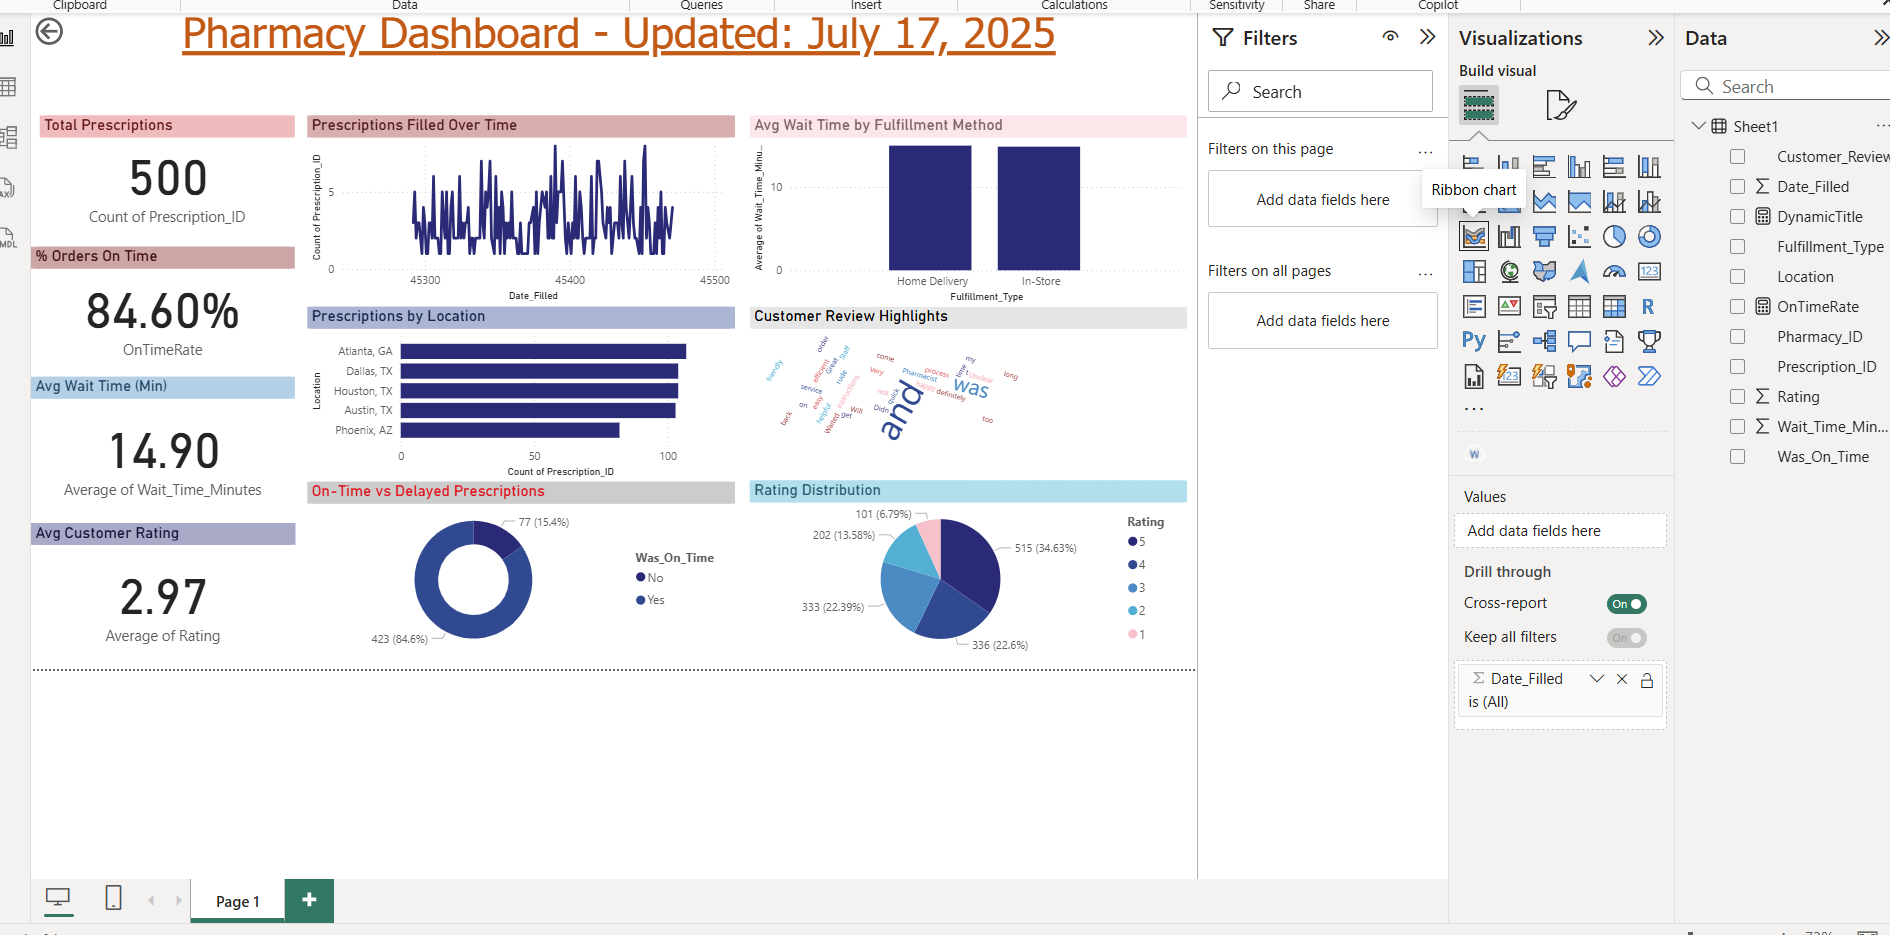

The dashboard page shown, as its layout file describes it:
{"tool":"powerbi","page":{"name":"Page 1","canvas":[1280,720],"ordinal":0},"visuals":[{"type":"card","title":"Total Prescriptions","fields":{"Values":["CountNonNull(Sheet1.Prescription_ID)"]},"box":[9.6,112.5,279.9,126.2],"z":0},{"type":"card","title":"% Orders On Time","fields":{"Values":["Sheet1.OnTimeRate"]},"box":[0,256.6,289.5,129],"z":1000},{"type":"card","title":"Avg Wait Time (Min)","fields":{"Values":["Avg(Sheet1.Wait_Time_Minutes)"]},"box":[0,399.3,289.5,150.9],"z":2000},{"type":"card","title":"Avg Customer Rating","fields":{"Values":["Avg(Sheet1.Rating)"]},"box":[0,560,290,151],"z":3000},{"type":"lineChart","title":"Prescriptions Filled Over Time","fields":{"Category":["Sheet1.Date_Filled"],"Y":["CountNonNull(Sheet1.Prescription_ID)"]},"box":[303.3,112.5,469.3,208.6],"z":4000},{"type":"columnChart","title":"Avg Wait Time by Fulfillment Method","fields":{"Category":["Sheet1.Fulfillment_Type"],"Y":["Avg(Sheet1.Wait_Time_Minutes)"]},"box":[789,112.5,480.3,209.9],"z":5000},{"type":"barChart","title":"Prescriptions by Location","fields":{"Category":["Sheet1.Location"],"Y":["CountNonNull(Sheet1.Prescription_ID)"]},"box":[303.3,322.5,469.3,192.1],"z":6000},{"type":"WordCloud1447959067750","title":"Customer Review Highlights","fields":{"Category":["Sheet1.Customer_Review"]},"box":[789,323,480,191],"z":7000},{"type":"pieChart","title":"Rating Distribution","fields":{"Category":["Sheet1.Rating"],"Y":["Sum(Sheet1.Rating)"]},"box":[789,513.2,480.3,197.6],"z":8000},{"type":"donutChart","title":"On-Time vs Delayed Prescriptions","fields":{"Y":["CountNonNull(Sheet1.Prescription_ID)"],"Series":["Sheet1.Was_On_Time"]},"box":[303.3,514.6,469.3,196.2],"z":9000},{"type":"actionButton","box":[0,0,100,40],"z":10000},{"type":"card","fields":{"Values":["Sheet1.DynamicTitle"]},"box":[49.4,0,1192.5,60.4],"z":10001}]}

Visuals, with their boxes on the page's 1280x720 design canvas (x1, y1, x2, y2). These are canvas units, not pixel positions in the 1890x935 screenshot, which may show the page scaled, cropped or inside an application window:
"Total Prescriptions" card: [x1=10, y1=112, x2=290, y2=239]
"% Orders On Time" card: [x1=0, y1=257, x2=290, y2=386]
"Avg Wait Time (Min)" card: [x1=0, y1=399, x2=290, y2=550]
"Avg Customer Rating" card: [x1=0, y1=560, x2=290, y2=711]
"Prescriptions Filled Over Time" lineChart: [x1=303, y1=112, x2=773, y2=321]
"Avg Wait Time by Fulfillment Method" columnChart: [x1=789, y1=112, x2=1269, y2=322]
"Prescriptions by Location" barChart: [x1=303, y1=322, x2=773, y2=515]
"Customer Review Highlights" WordCloud1447959067750: [x1=789, y1=323, x2=1269, y2=514]
"Rating Distribution" pieChart: [x1=789, y1=513, x2=1269, y2=711]
"On-Time vs Delayed Prescriptions" donutChart: [x1=303, y1=515, x2=773, y2=711]
actionButton: [x1=0, y1=0, x2=100, y2=40]
card - Sheet1.DynamicTitle: [x1=49, y1=0, x2=1242, y2=60]
